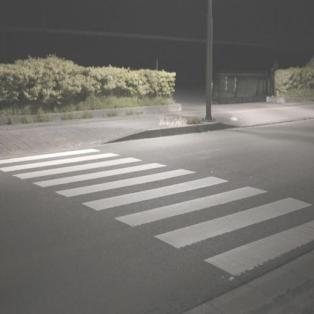Paso de Cebra: (54, 166, 240, 213)
